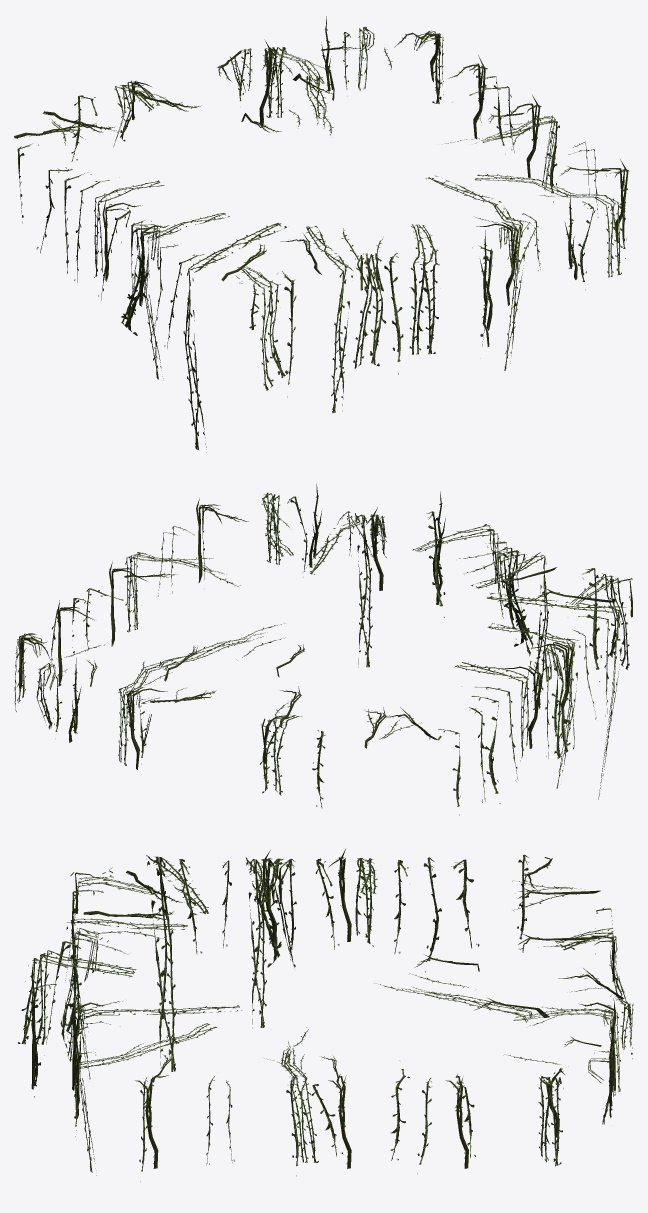
The model's file is zhiwu.FBX.
The picture shows the model from 3 angles, top to bottom: view 1: azimuth 30°, elevation 25°; view 2: azimuth 150°, elevation 25°; view 3: azimuth 270°, elevation 25°; orthographic projection. The views are drawn at different scales.
Visible parts, largest first — view 1: zhiwu; view 2: zhiwu; view 3: zhiwu.
Boxes of the visible parts, <box> form: zhiwu: <box>14,16,629,452</box>; zhiwu: <box>14,484,632,815</box>; zhiwu: <box>18,848,633,1181</box>.
Bounding box in the file's own units: 2845 × 1286 × 3094.
